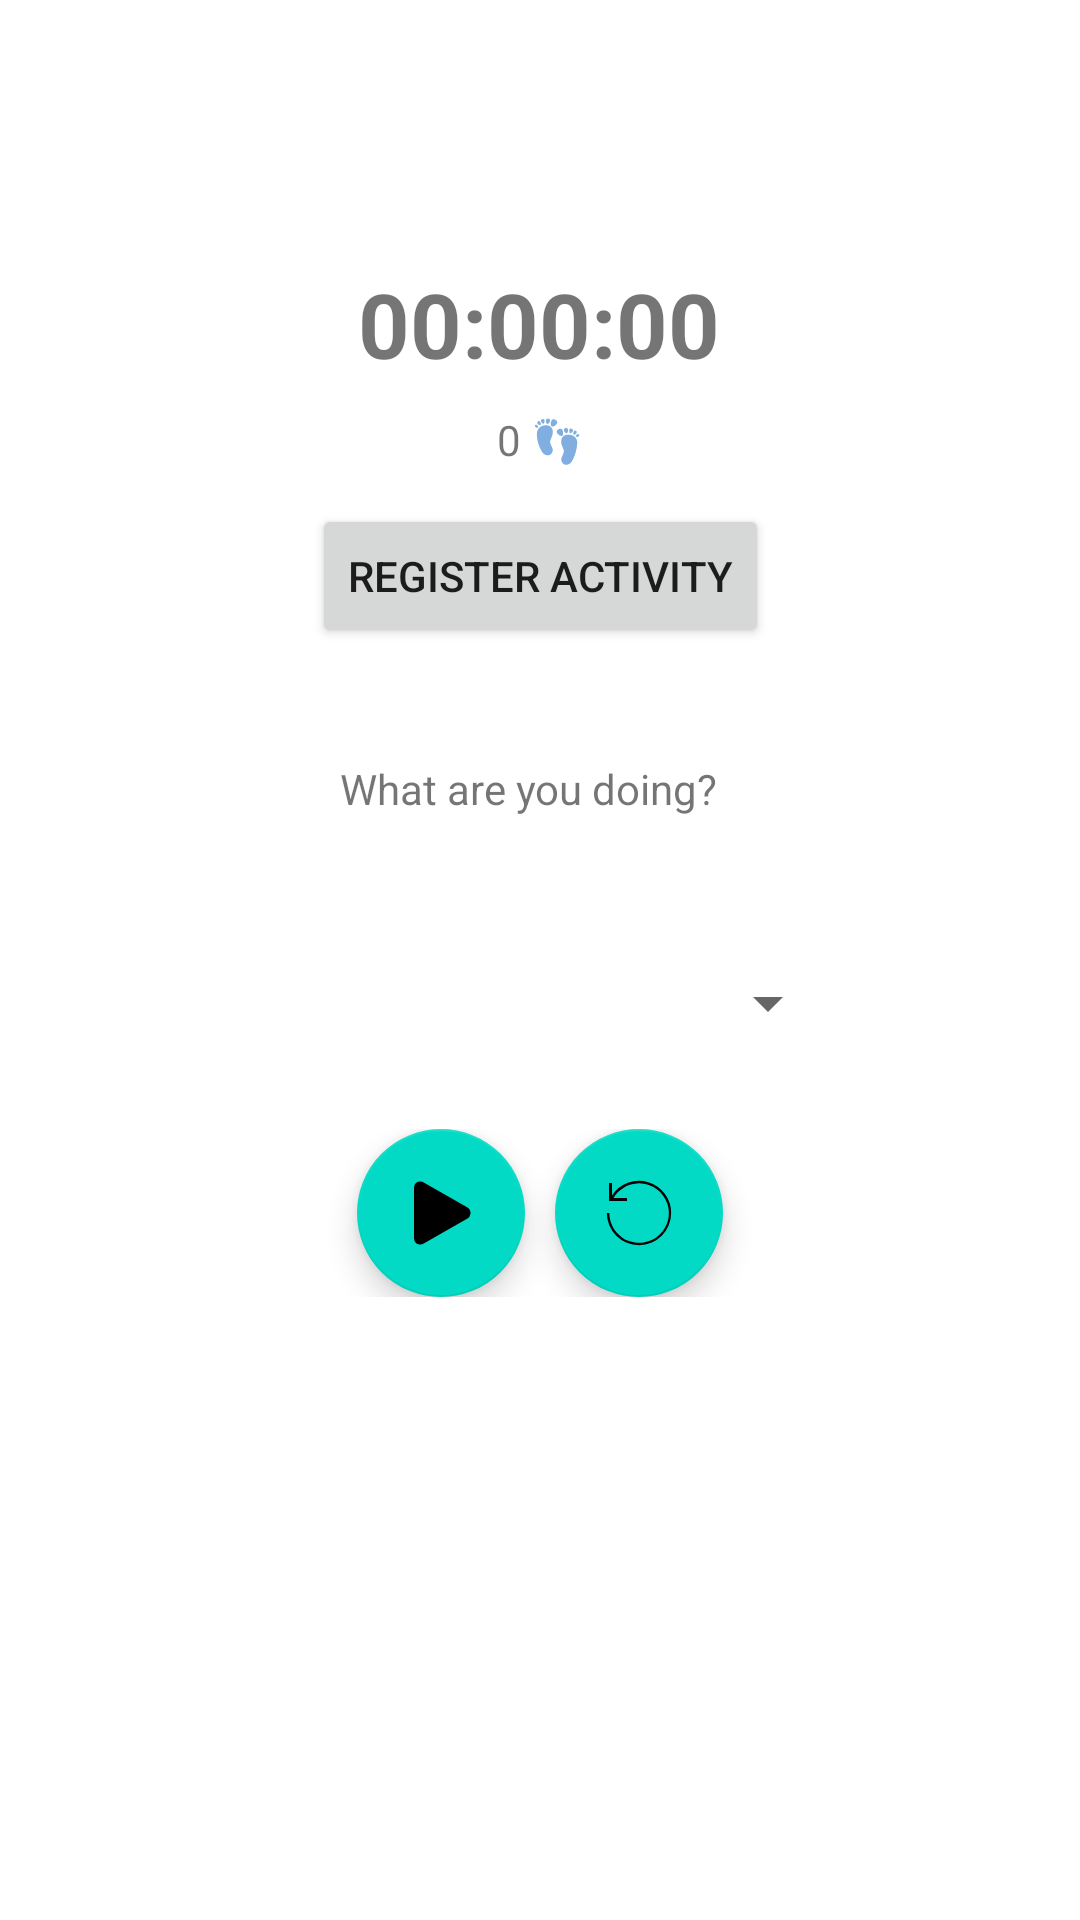

Screen size 1080px x 1920px. Icon name, then its box in pixels as Rect(x1, y1, x2, y2):
Restart stopwatch button: Rect(555, 1129, 723, 1297)
Start/stop stopwatch button: Rect(357, 1129, 525, 1297)
